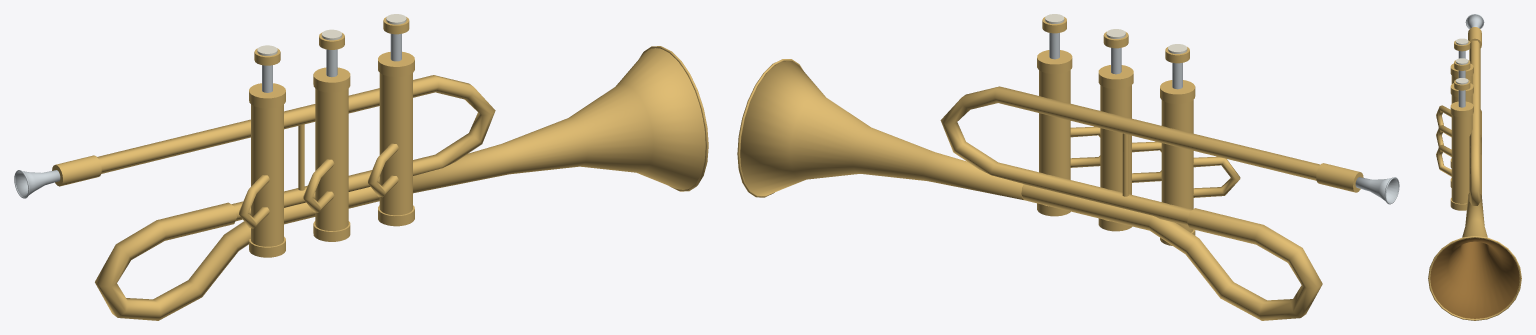
File: instrument_trumpet.glb
3 renders of one model, left to right at view 1: azimuth 30°, elevation 25°; view 2: azimuth 150°, elevation 25°; view 3: azimuth 270°, elevation 25°, orthographic. The views are drawn at different scales.
Parts seen in each view (by area): view 1: Trumpet_Open_Bell, Trumpet_Lower_Folded_Tubing, Trumpet_Leadpipe_And_Tuning_Bow, Trumpet_Valve_Casing.001, Trumpet_Valve_Casing.002, Trumpet_Valve_Casing, Trumpet_Mouthpiece_Receiver, Trumpet_Short_Valve_Slide.001, Trumpet_Short_Valve_Slide.002, Trumpet_Short_Valve_Slide, Trumpet_Valve_Top_Cap.001, Trumpet_Open_Mouthpiece_Cup (+3 smaller); view 2: Trumpet_Open_Bell, Trumpet_Leadpipe_And_Tuning_Bow, Trumpet_Lower_Folded_Tubing, Trumpet_Valve_Casing, Trumpet_Valve_Casing.002, Trumpet_Valve_Casing.001, Trumpet_Short_Valve_Slide, Trumpet_Mouthpiece_Receiver, Trumpet_Open_Mouthpiece_Cup, Trumpet_Valve_Top_Cap.001, Trumpet_Valve_Top_Cap.002, Trumpet_Valve_Top_Cap (+3 smaller); view 3: Trumpet_Open_Bell, Trumpet_Leadpipe_And_Tuning_Bow, Trumpet_Valve_Casing.002, Trumpet_Open_Bell_Rolled_Rim, Trumpet_Valve_Top_Cap.002, Trumpet_Short_Valve_Slide.002, Trumpet_Mouthpiece_Receiver, Trumpet_Open_Mouthpiece_Cup, Trumpet_Short_Valve_Slide.001, Trumpet_Short_Valve_Slide, Trumpet_Lower_Folded_Tubing, Trumpet_Valve_Top_Cap.001 (+8 smaller).
Boxes of the visible parts, <box> form: Trumpet_Open_Bell: <box>413,48,705,193</box>; Trumpet_Lower_Folded_Tubing: <box>95,186,379,320</box>; Trumpet_Leadpipe_And_Tuning_Bow: <box>97,75,495,221</box>; Trumpet_Valve_Casing.001: <box>315,88,348,230</box>; Trumpet_Valve_Casing.002: <box>379,73,412,215</box>; Trumpet_Valve_Casing: <box>251,104,283,246</box>; Trumpet_Mouthpiece_Receiver: <box>52,155,101,186</box>; Trumpet_Short_Valve_Slide.001: <box>303,159,334,212</box>; Trumpet_Short_Valve_Slide.002: <box>368,143,398,197</box>; Trumpet_Short_Valve_Slide: <box>239,175,269,228</box>; Trumpet_Valve_Top_Cap.001: <box>313,67,350,92</box>; Trumpet_Open_Mouthpiece_Cup: <box>15,170,60,196</box>; Trumpet_Open_Bell: <box>740,61,1023,199</box>; Trumpet_Leadpipe_And_Tuning_Bow: <box>940,86,1320,225</box>; Trumpet_Lower_Folded_Tubing: <box>1021,184,1322,320</box>; Trumpet_Valve_Casing: <box>1161,100,1193,232</box>; Trumpet_Valve_Casing.002: <box>1039,70,1070,179</box>; Trumpet_Valve_Casing.001: <box>1100,85,1131,194</box>; Trumpet_Short_Valve_Slide: <box>1193,156,1240,197</box>; Trumpet_Mouthpiece_Receiver: <box>1316,163,1363,192</box>; Trumpet_Open_Mouthpiece_Cup: <box>1355,177,1398,202</box>; Trumpet_Valve_Top_Cap.001: <box>1098,65,1133,88</box>; Trumpet_Valve_Top_Cap.002: <box>1037,50,1072,73</box>; Trumpet_Valve_Top_Cap: <box>1160,80,1195,103</box>; Trumpet_Open_Bell: <box>1430,194,1519,319</box>; Trumpet_Leadpipe_And_Tuning_Bow: <box>1469,40,1480,205</box>; Trumpet_Valve_Casing.002: <box>1451,115,1472,203</box>; Trumpet_Open_Bell_Rolled_Rim: <box>1428,236,1521,320</box>; Trumpet_Valve_Top_Cap.002: <box>1450,101,1473,117</box>; Trumpet_Short_Valve_Slide.002: <box>1436,144,1451,176</box>; Trumpet_Mouthpiece_Receiver: <box>1468,27,1481,47</box>; Trumpet_Open_Mouthpiece_Cup: <box>1466,15,1483,28</box>; Trumpet_Short_Valve_Slide.001: <box>1436,125,1451,156</box>; Trumpet_Short_Valve_Slide: <box>1436,105,1451,137</box>; Trumpet_Lower_Folded_Tubing: <box>1468,109,1481,195</box>; Trumpet_Valve_Top_Cap.001: <box>1450,83,1473,97</box>.
Size of the model in its own units: 0.8072 by 0.2989 by 0.1612.
